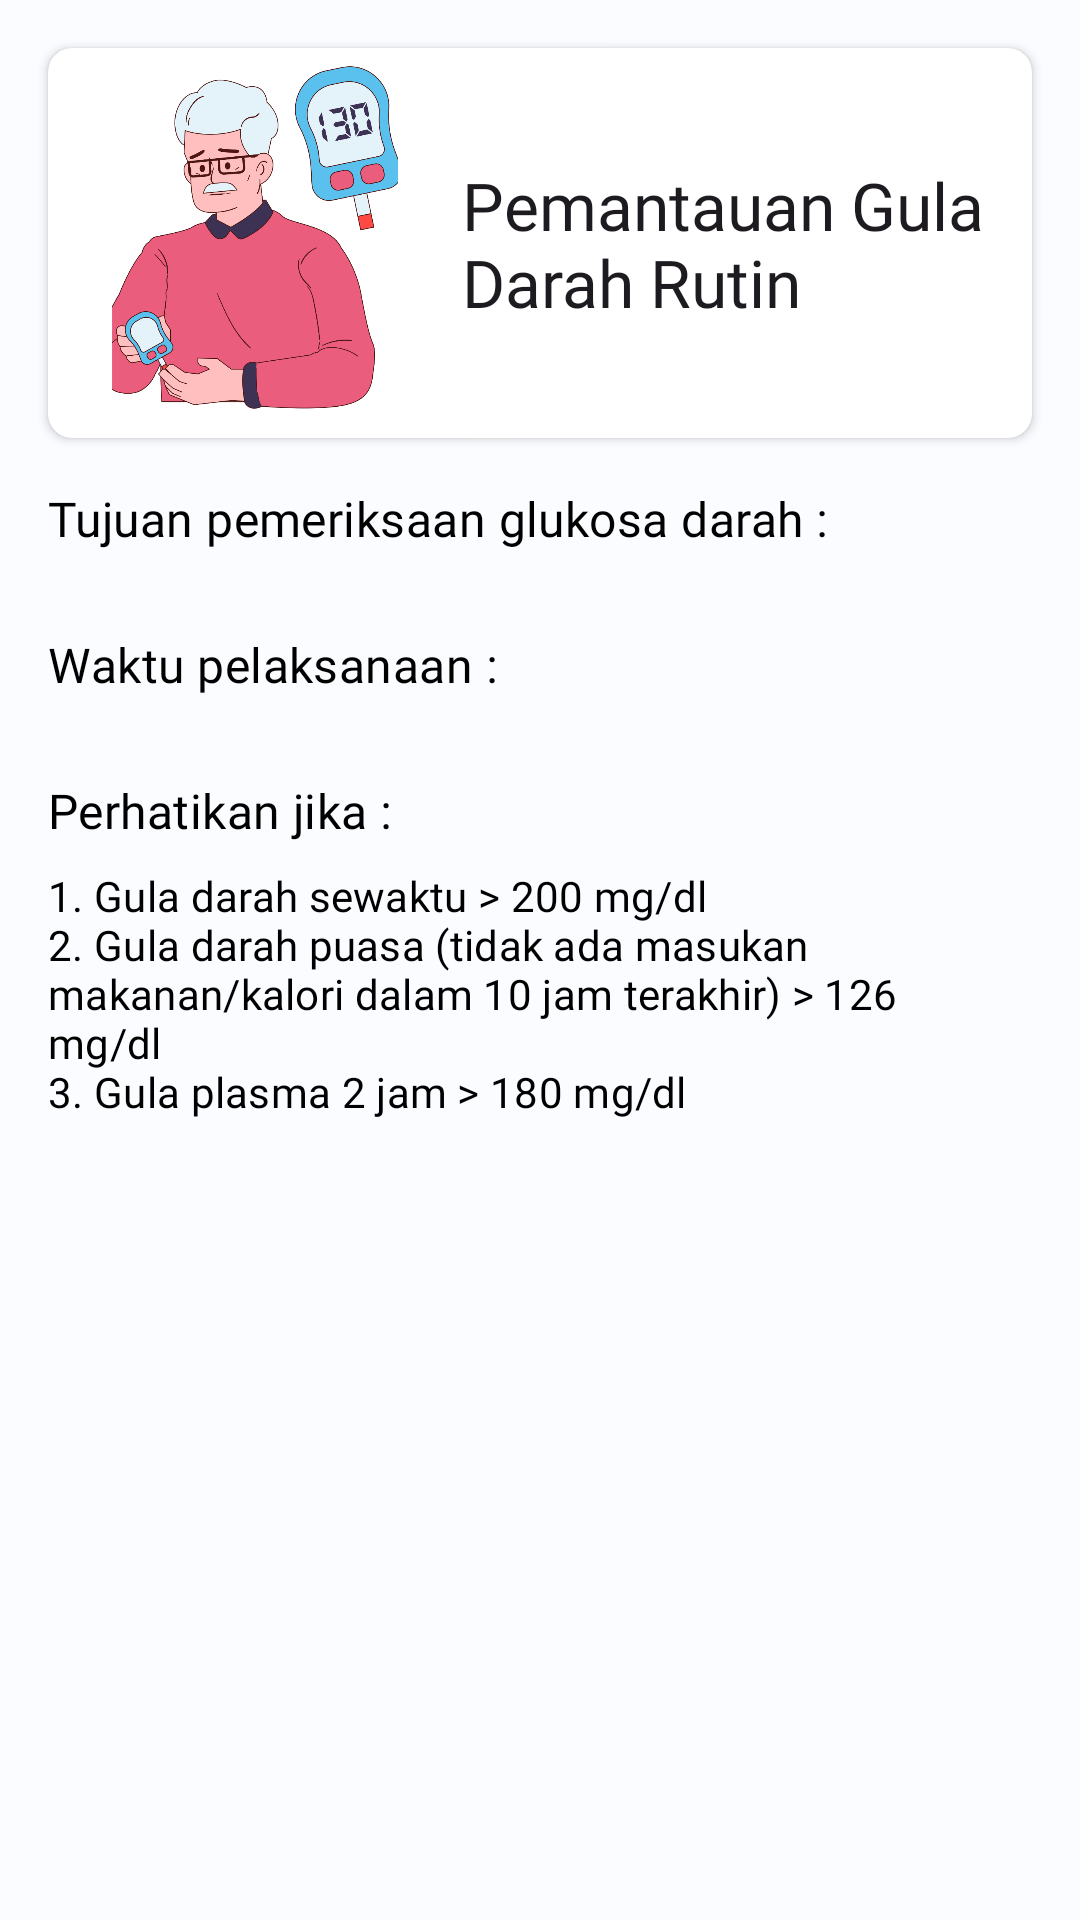

Where to tap for icons on this 1080px×1920px app screen, as (x=x, y=y):
Gambar pemanatauan gula darah: (x=255, y=237)
